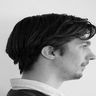ear: (36, 37, 59, 64)
